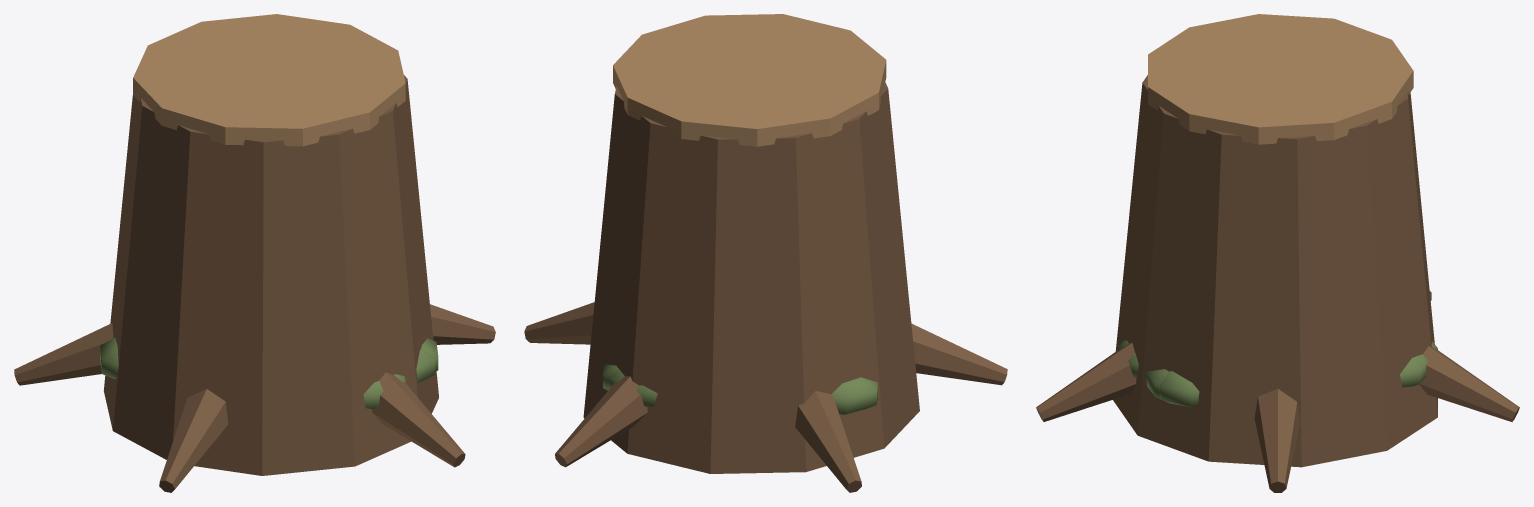
Rendered from stump_mossy_summer.glb.
3 renders of one model, left to right at view 1: azimuth 30°, elevation 25°; view 2: azimuth 150°, elevation 25°; view 3: azimuth 270°, elevation 25°, orthographic. The views are drawn at different scales.
Parts seen in each view (by area): view 1: stump_mossy_summer; view 2: stump_mossy_summer; view 3: stump_mossy_summer.
Boxes of the visible parts, x1,y1,x2,y2 form: stump_mossy_summer: (14, 14, 495, 492); stump_mossy_summer: (524, 14, 1007, 492); stump_mossy_summer: (1036, 14, 1519, 492).
Size of the model in its own units: 1.33 by 1.04 by 1.39.
